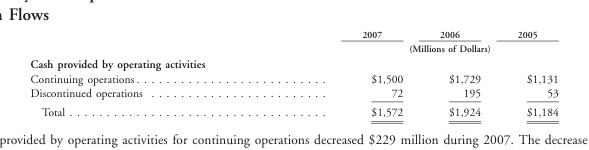table: (29, 28, 557, 118)
table column: (29, 28, 251, 118), (251, 28, 420, 118), (420, 28, 498, 118), (498, 28, 557, 118)
table column header: (29, 28, 557, 55)
table projected row header: (29, 55, 557, 71)
table row: (29, 85, 557, 102), (29, 55, 557, 71), (29, 102, 557, 118), (29, 40, 557, 55), (29, 71, 557, 85), (29, 28, 557, 40)
table spanning cell: (251, 40, 557, 55)
